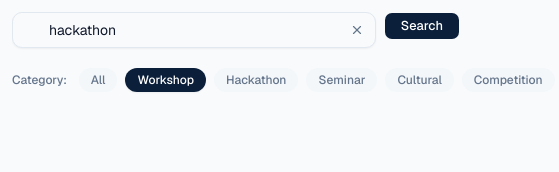
Test case: EventFilters › renders exactly one clear button when search has text, which clears input and filter
This screenshot has width=559, height=172.
Click the button named "Clear search" at (357, 30), box [350,23,364,37]
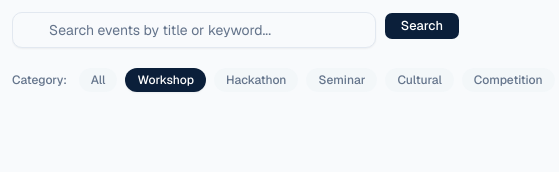
Check: the field with placeholder "Search events by title or keyword..." is empty, box [12,12,376,48]
